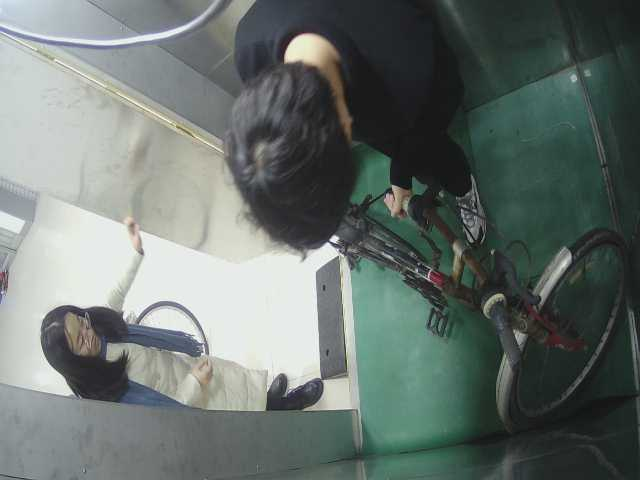bicycle: (293, 188, 631, 440)
person: (213, 1, 496, 257), (41, 216, 332, 419)
